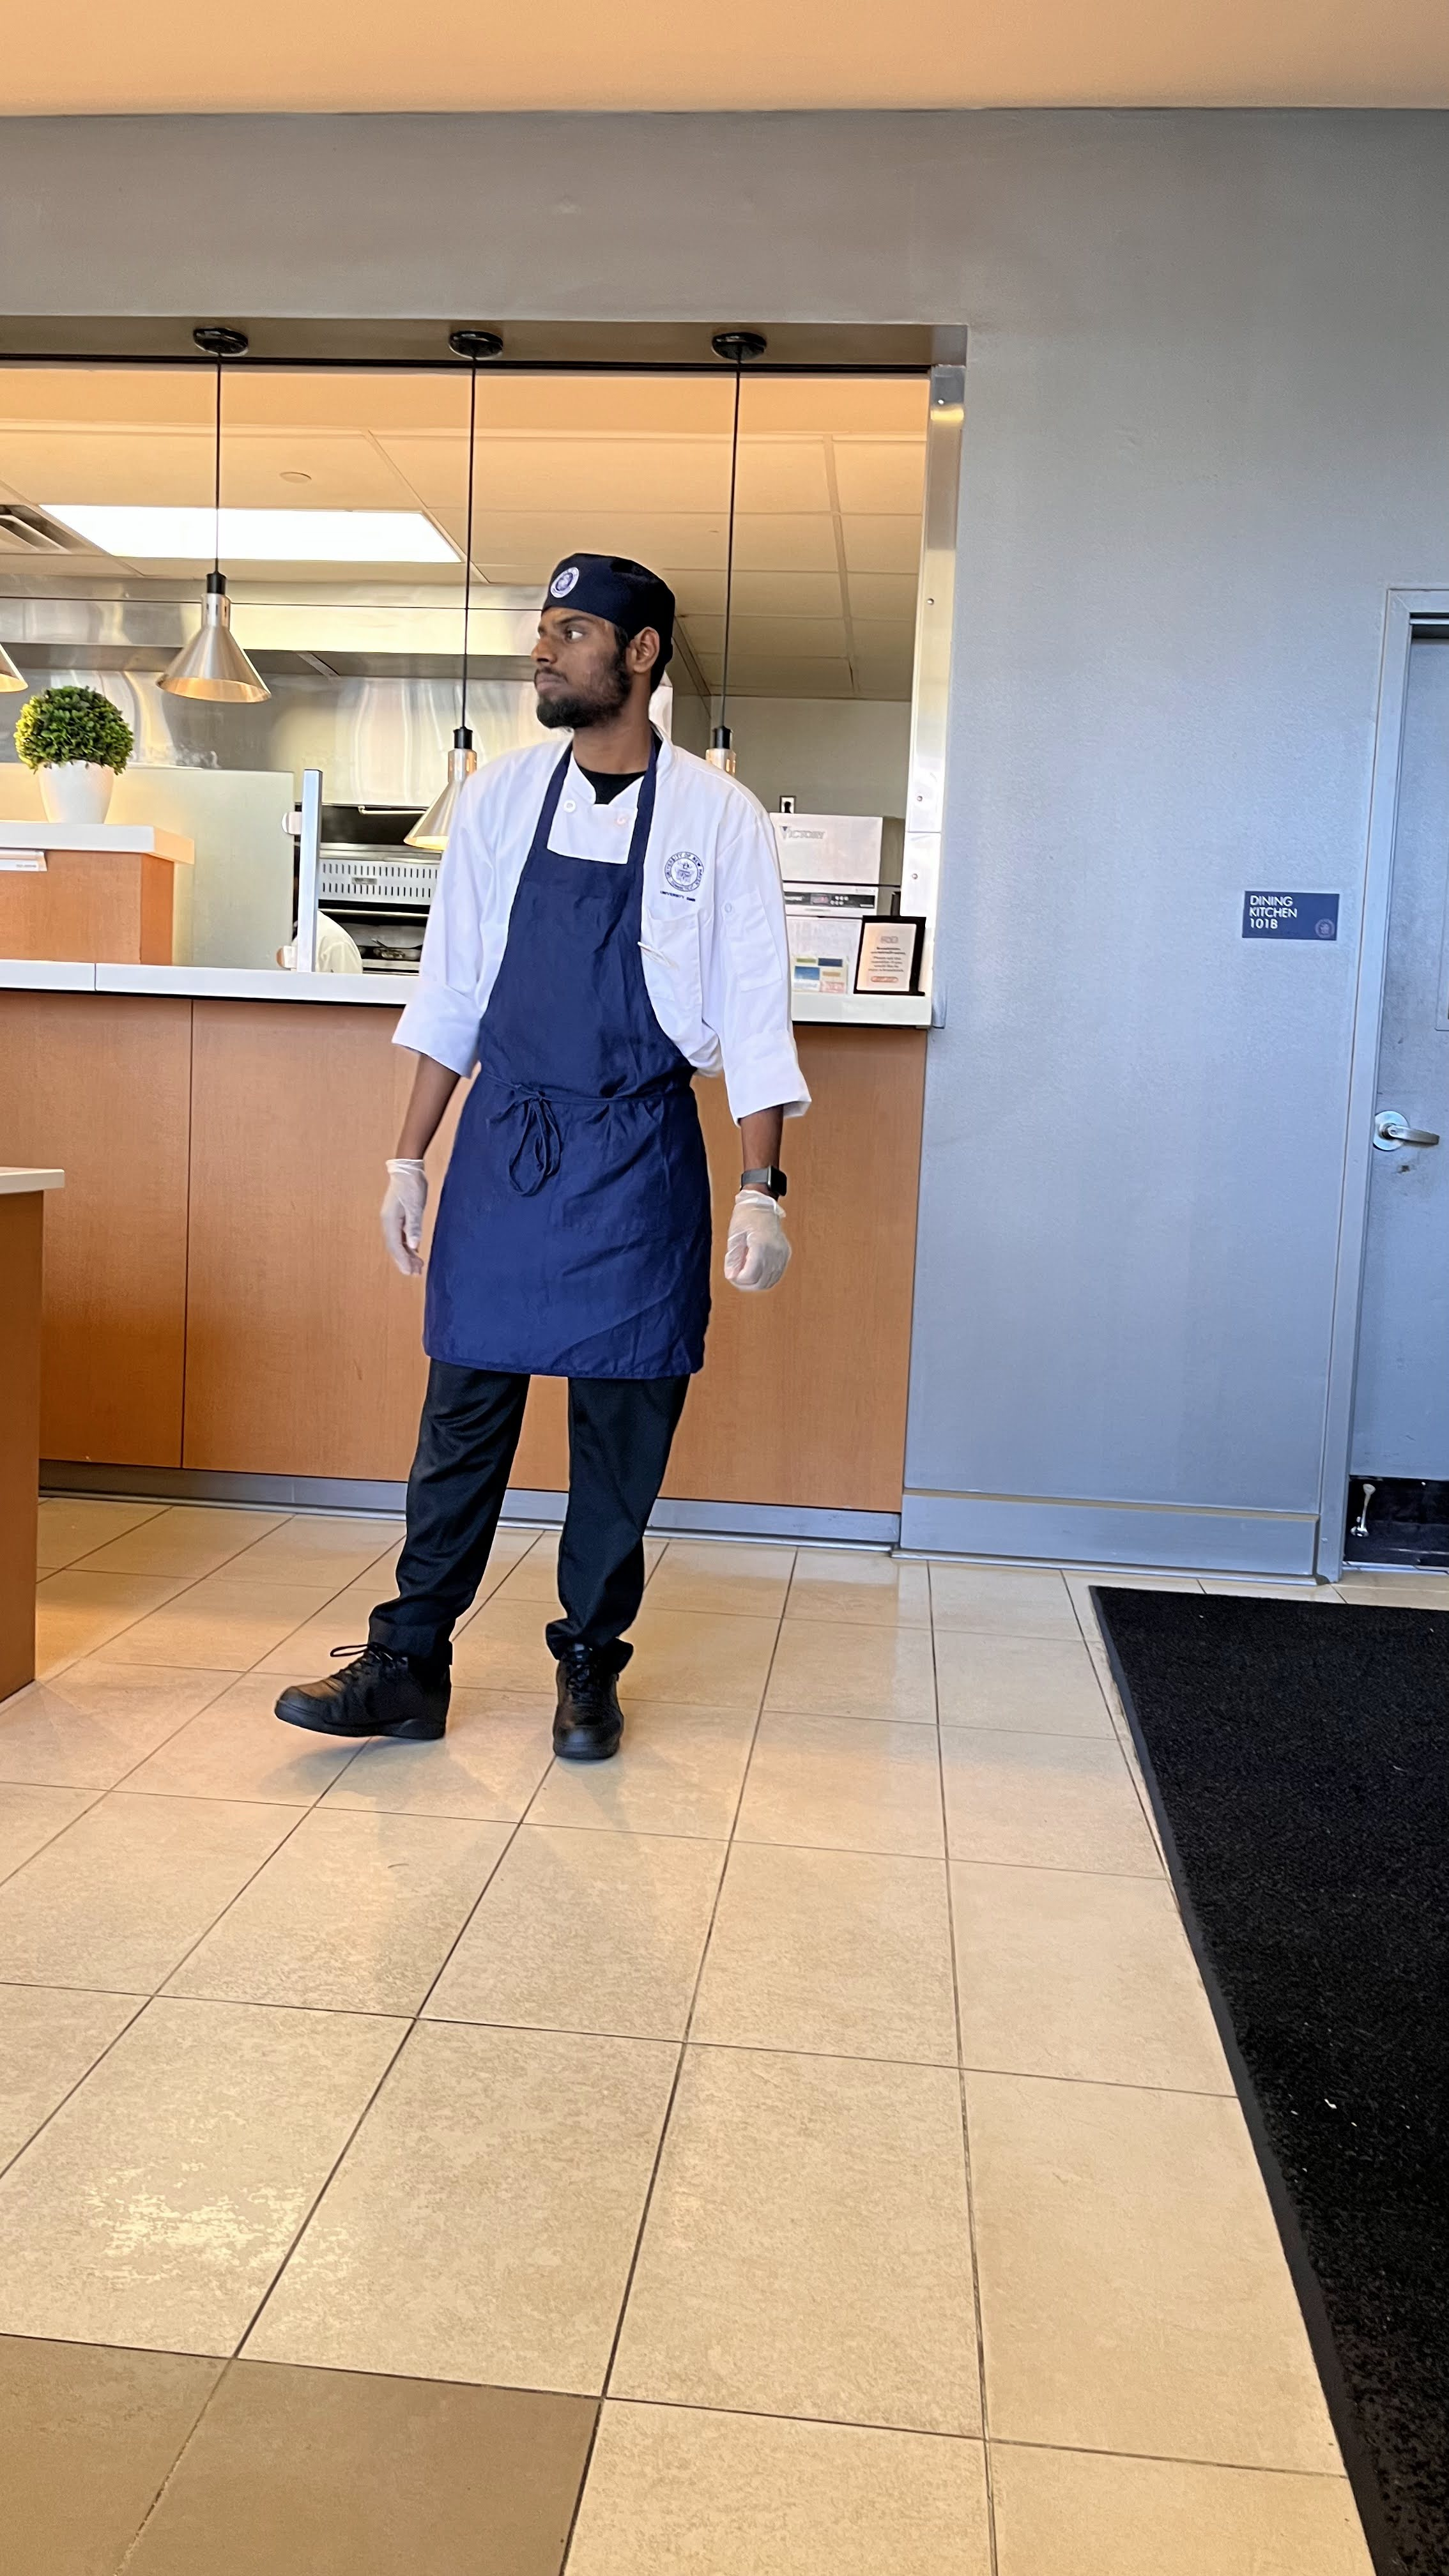Food Worker: (375, 523, 806, 1445)
